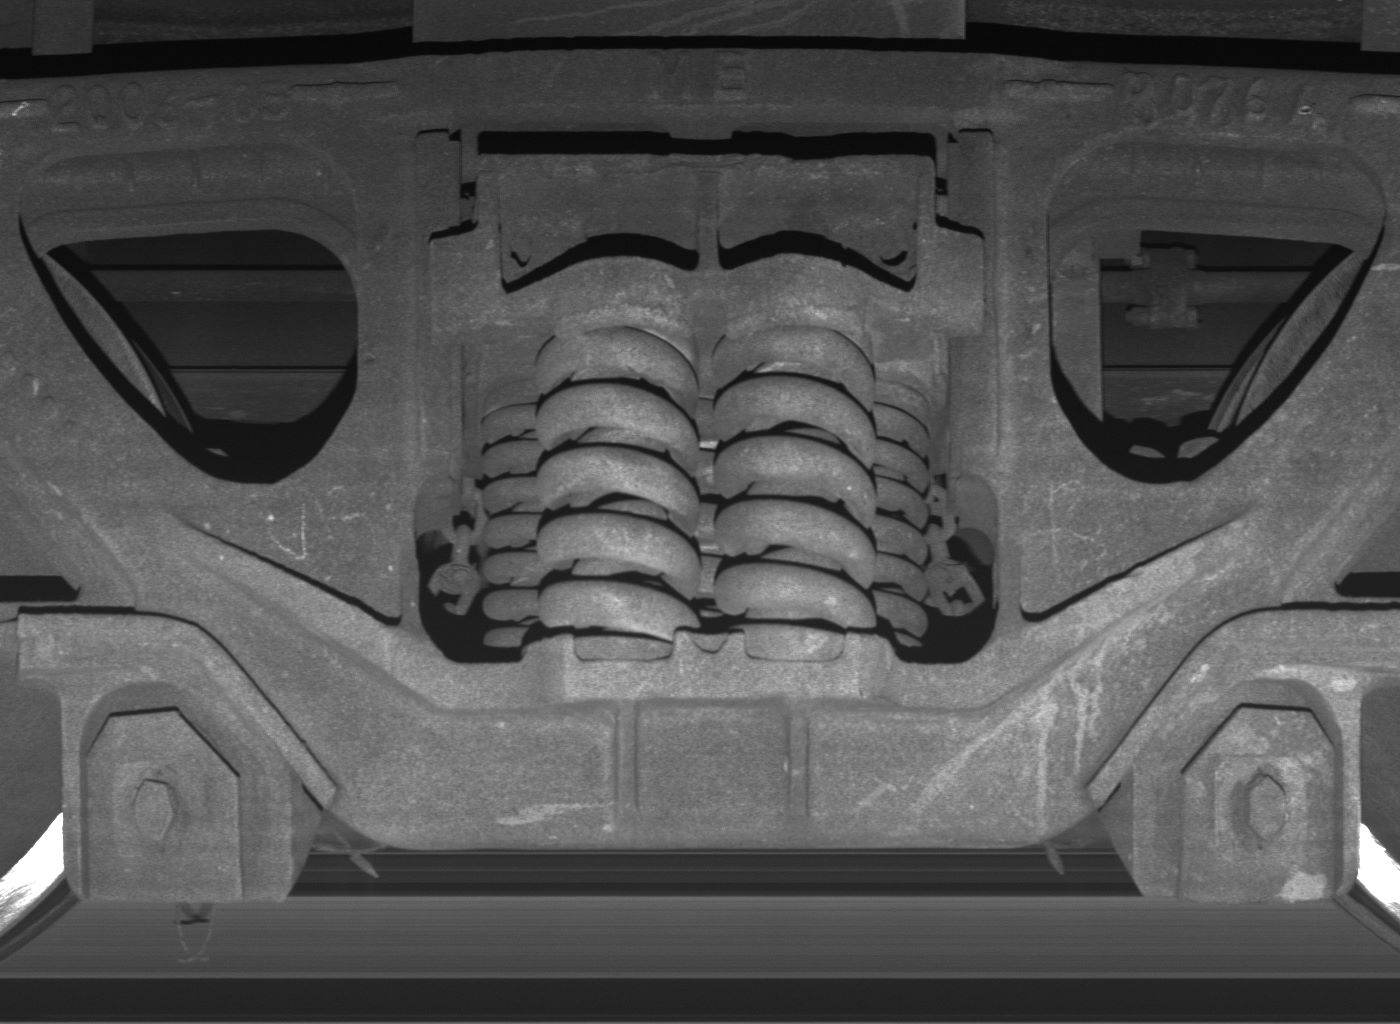normal: (63, 686, 293, 904), (1133, 680, 1357, 902)
